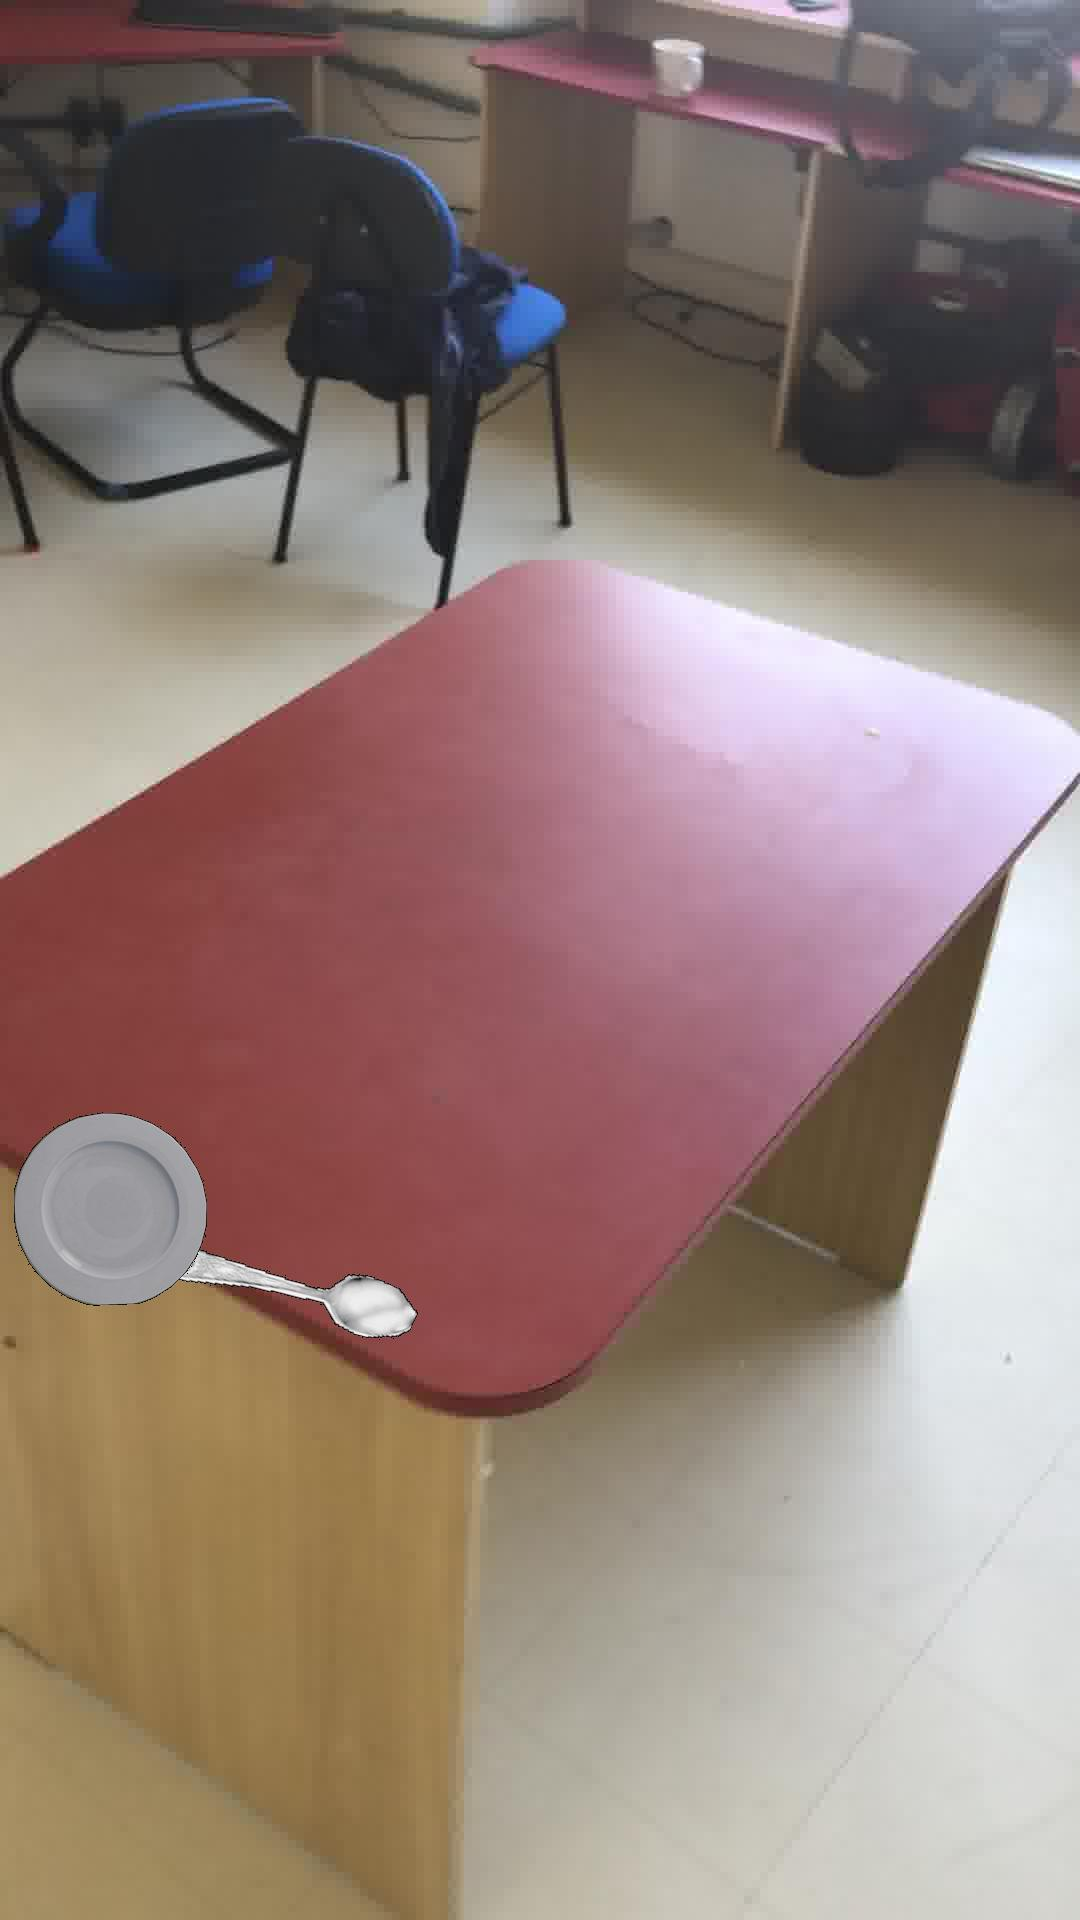plate: (12, 1110, 206, 1304)
spoon: (178, 1249, 417, 1337)
